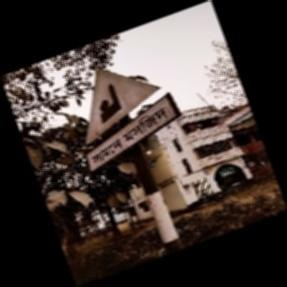Mosque in front: (83, 68, 180, 174)
